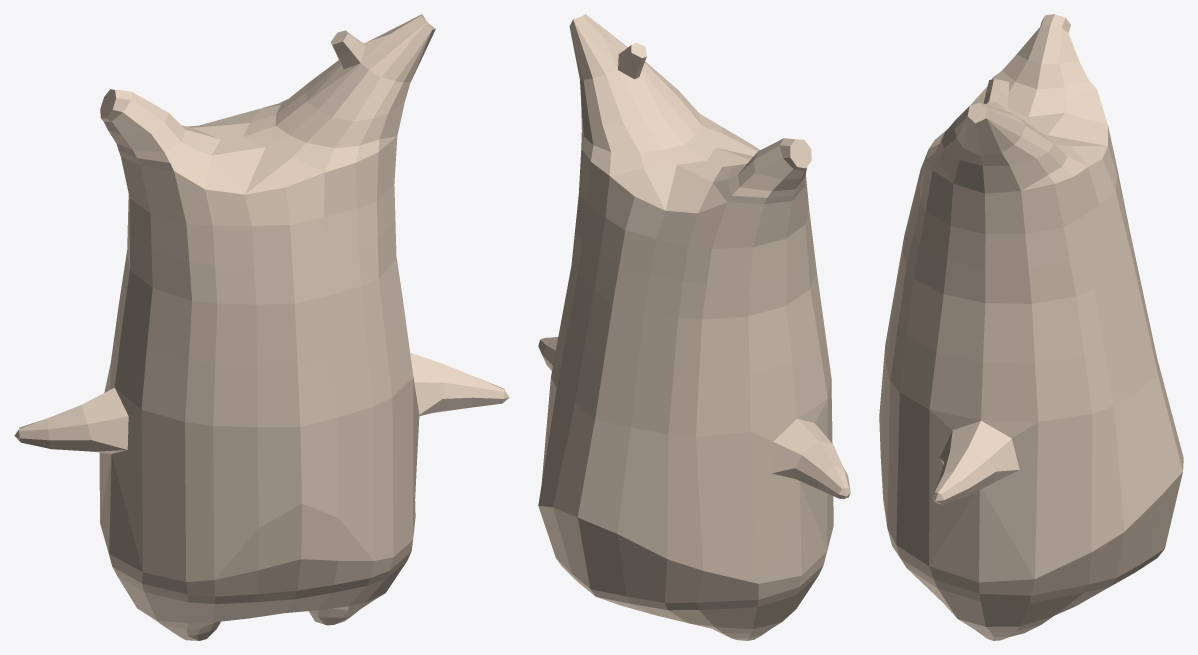
The model's file is frame_0082.obj.
The picture shows the model from 3 angles, left to right: view 1: azimuth 30°, elevation 25°; view 2: azimuth 150°, elevation 25°; view 3: azimuth 270°, elevation 25°; orthographic projection. The views are drawn at different scales.
Parts seen in each view (by area): view 1: korok; view 2: korok; view 3: korok.
Boxes of the visible parts, x1,y1,x2,y2 form: korok: [14, 14, 509, 640]; korok: [538, 14, 850, 640]; korok: [879, 14, 1183, 640].
Bounding box in the file's own units: 1.55 × 2.16 × 1.04.
